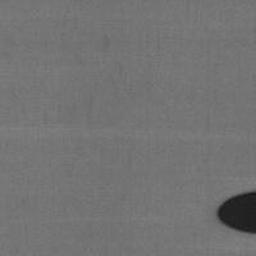Punching: (218, 192, 256, 233)
